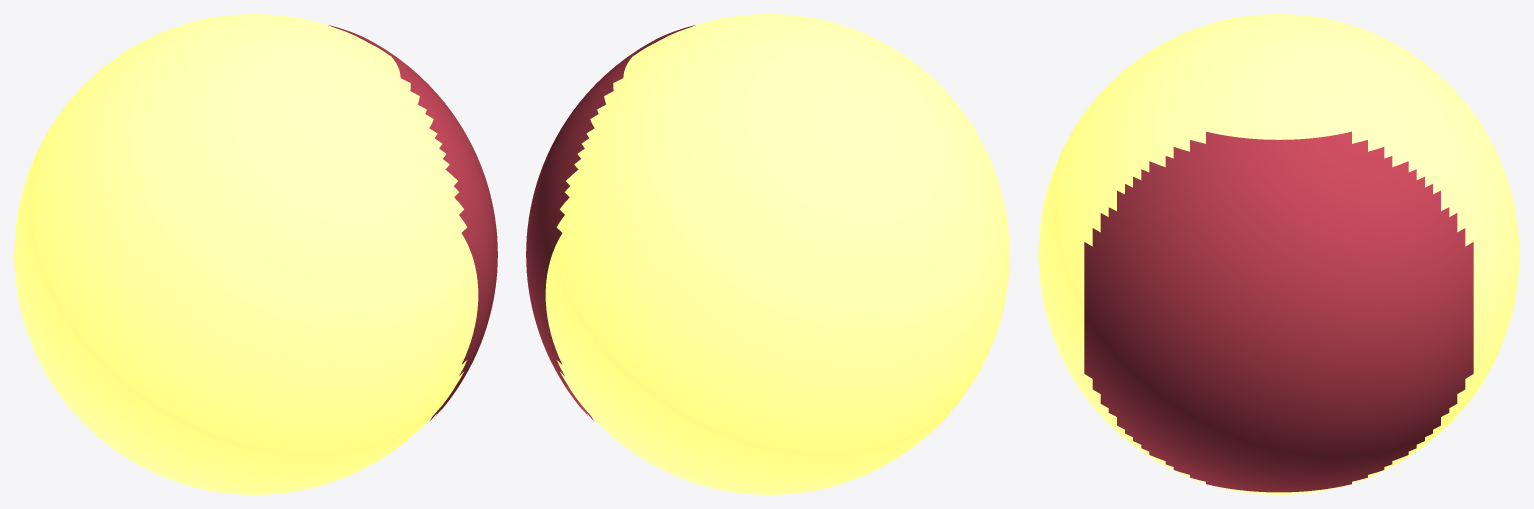
The model's file is SM_Sun.fbx.
3 views of the same model, side by side, from view 1: azimuth 30°, elevation 25°; view 2: azimuth 150°, elevation 25°; view 3: azimuth 270°, elevation 25° (orthographic).
Parts seen in each view (by area): view 1: SM_Sun; view 2: SM_Sun; view 3: SM_Sun.
Part boxes in pixels (box(x1,y1,x2,y2)): SM_Sun: box(14, 14, 497, 494); SM_Sun: box(526, 14, 1009, 494); SM_Sun: box(1038, 14, 1519, 494).
Size of the model in its own units: 100 by 100 by 100.
